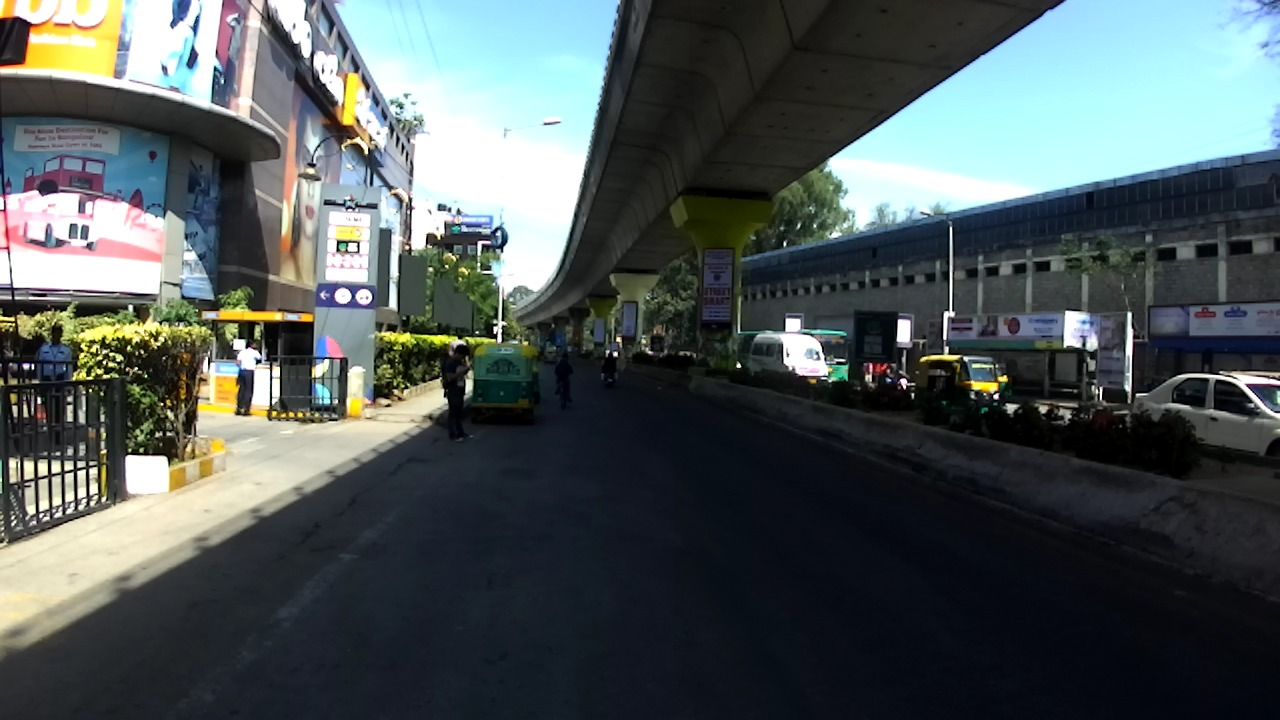autorickshaw: (916, 354, 1001, 422), (469, 343, 536, 424), (511, 345, 540, 404), (991, 363, 1009, 411)
bicycle: (554, 372, 574, 410)
bus: (734, 328, 851, 384), (746, 334, 829, 389)
car: (1131, 370, 1280, 469)
motorcycle: (876, 373, 908, 402), (601, 367, 619, 388)
person: (37, 322, 73, 432), (441, 343, 474, 445), (233, 338, 263, 417), (450, 333, 467, 362), (863, 361, 875, 385), (872, 359, 882, 381), (880, 359, 889, 381)
rider: (554, 351, 575, 405), (878, 359, 909, 394), (602, 351, 618, 379)
vehicle fallback: (603, 342, 620, 359), (543, 347, 559, 364)
